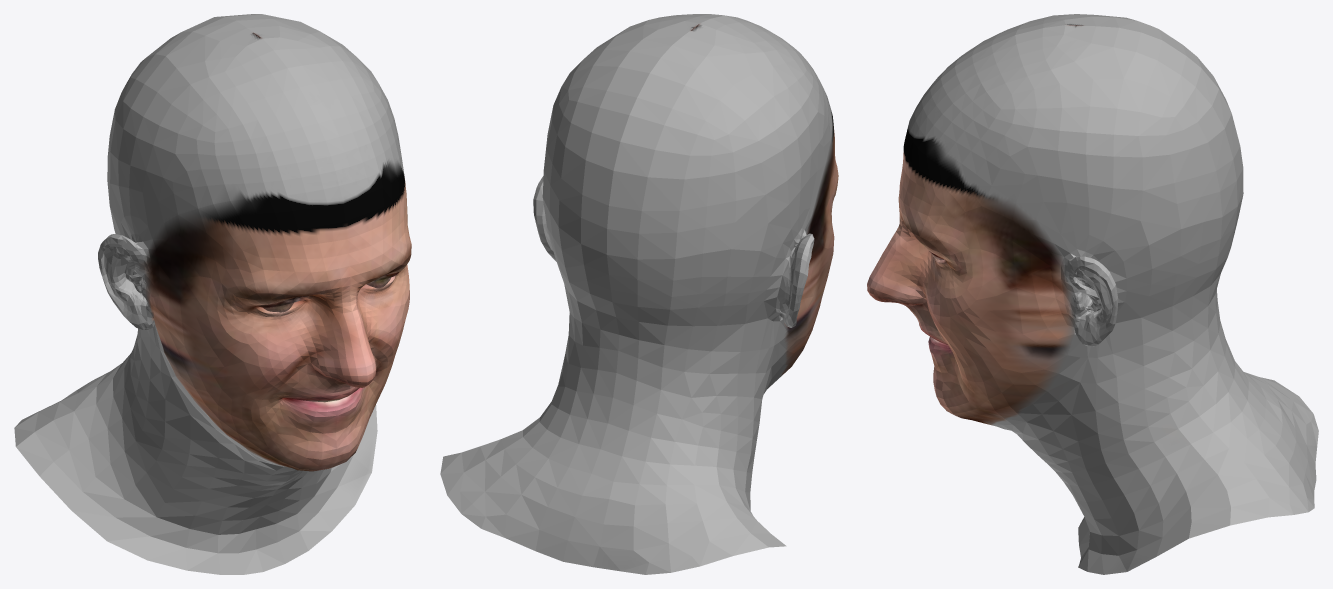
3 views of the same model, side by side, from view 1: azimuth 30°, elevation 25°; view 2: azimuth 150°, elevation 25°; view 3: azimuth 270°, elevation 25° (orthographic). The views are drawn at different scales.
Parts seen in each view (by area): view 1: Node; view 2: Node; view 3: Node.
Boxes of the visible parts, bbox=[...] form: Node: bbox=[14, 14, 411, 574]; Node: bbox=[440, 14, 838, 574]; Node: bbox=[867, 14, 1318, 574].
Size of the model in its own units: 0.2205 by 0.3381 by 0.2618.
Materials: 1 (1 with a texture image).
